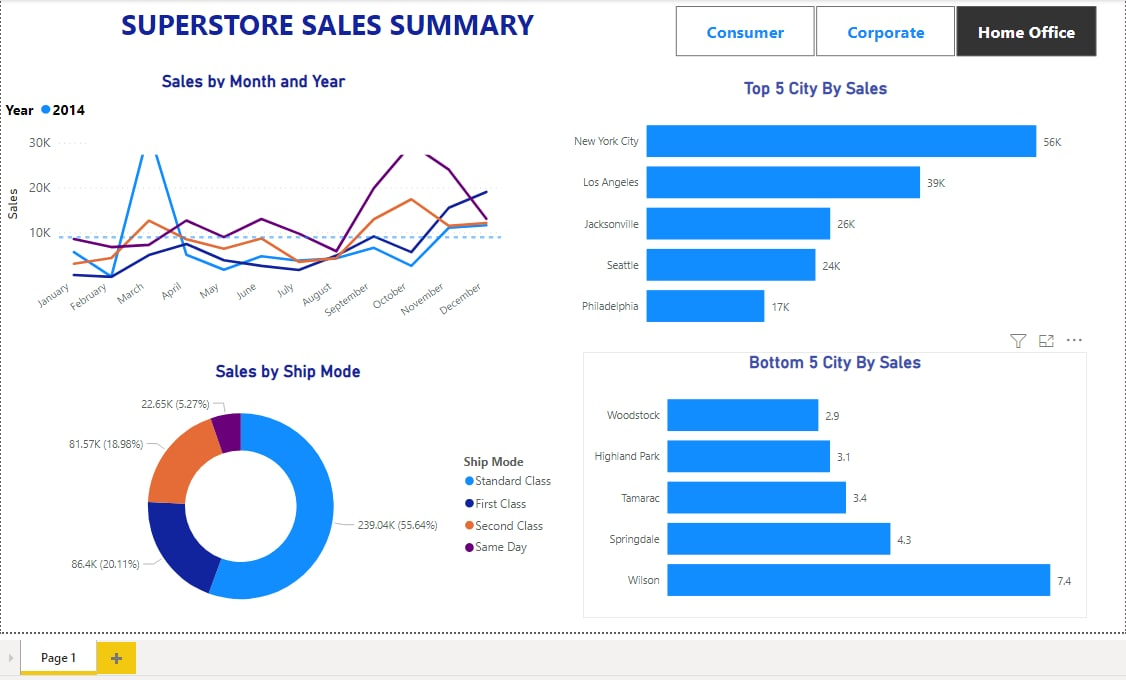

The page's visual inventory and layout, read from the dashboard file:
{"tool":"powerbi","page":{"name":"Page 1","canvas":[1280,720],"ordinal":0},"visuals":[{"type":"lineChart","fields":{"Y":["Sum(Orders.Sales)"],"Category":["Orders.Order Date.Variation.Date Hierarchy.Month"],"Series":["Orders.Order Date.Variation.Date Hierarchy.Year"]},"box":[0,80.9,575.3,303],"z":0},{"type":"donutChart","fields":{"Y":["Sum(Orders.Sales)"],"Category":["Orders.Ship Mode"]},"box":[13.7,411.3,626.6,308.7],"z":1000},{"type":"barChart","title":"Top 5 City By Sales","fields":{"Y":["Sum(Orders.Sales)"],"Category":["Orders.City"]},"box":[640.3,88.9,575.3,303],"z":2000},{"type":"barChart","title":"Bottom 5 City By Sales","fields":{"Y":["Sum(Orders.Sales)"],"Category":["Orders.City"]},"box":[663,401,574.2,303],"z":3000},{"type":"slicer","fields":{"Values":["Orders.Segment"]},"box":[742.8,0,528.6,70.6],"z":4000},{"type":"textbox","box":[100.2,100.2,498.6,75.8],"z":5000},{"type":"textbox","box":[0,0,753,70.6],"z":6000}]}

Visuals, with their boxes on the page's 1280x720 design canvas (x1, y1, x2, y2). These are canvas units, not pixel positions in the 1126x680 screenshot, which may show the page scaled, cropped or inside an application window:
lineChart - Sum(Orders.Sales) x Orders.Order Date.Variation.Date Hierarchy.Month: (0,81,575,384)
donutChart - Sum(Orders.Sales) x Orders.Ship Mode: (14,411,640,720)
"Top 5 City By Sales" barChart: (640,89,1216,392)
"Bottom 5 City By Sales" barChart: (663,401,1237,704)
slicer - Orders.Segment: (743,0,1271,71)
textbox: (100,100,599,176)
textbox: (0,0,753,71)
